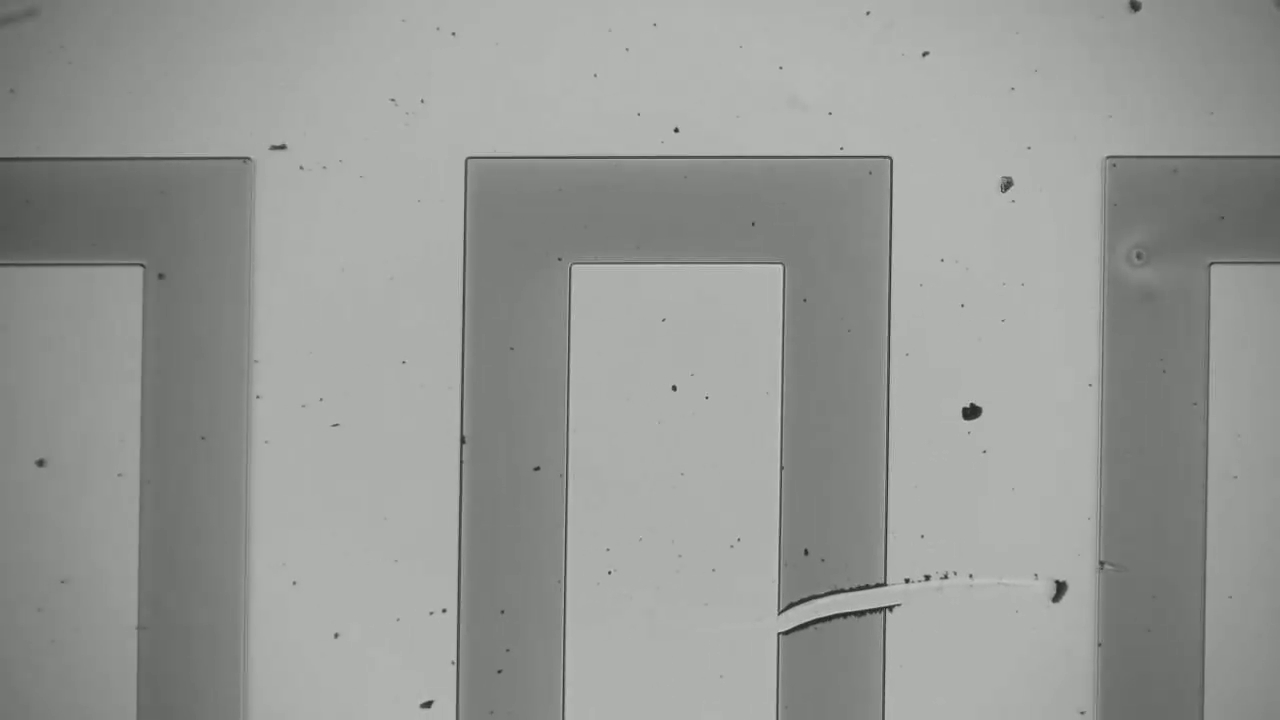Short_circuit: (743, 553, 910, 654)
